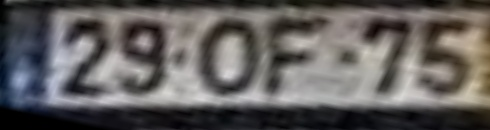2: (56, 17, 116, 108)
5: (411, 20, 473, 103)
7: (356, 19, 415, 103)
9: (115, 19, 171, 103)
F: (258, 14, 333, 105)
O: (196, 15, 261, 103)
